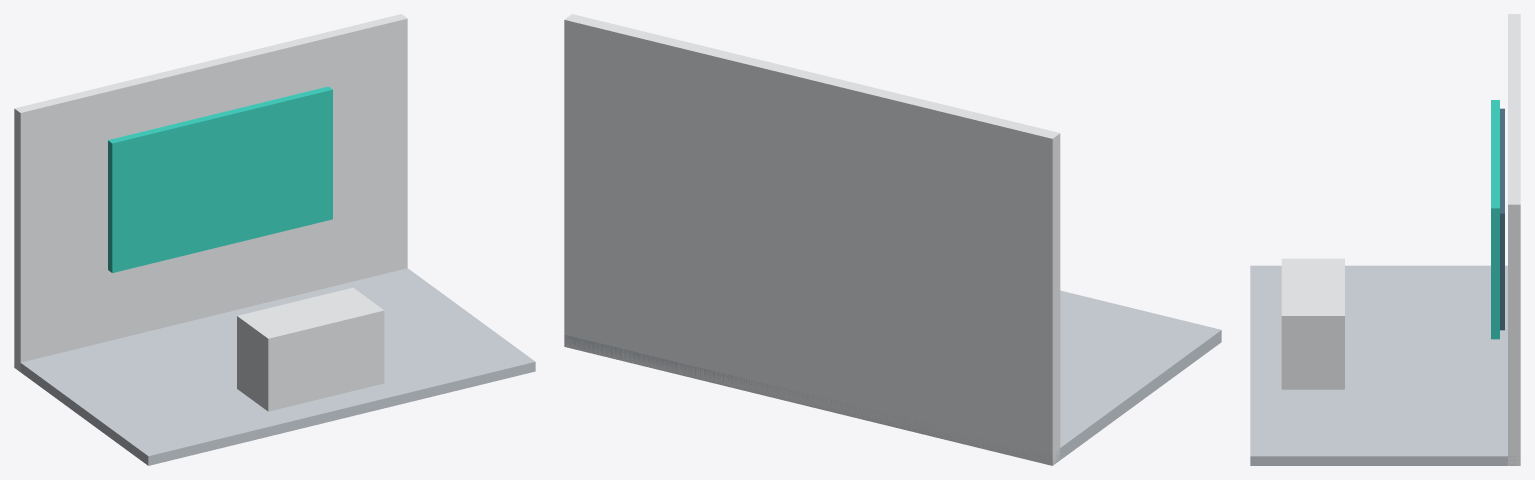
3 views of the same model, side by side, from view 1: azimuth 30°, elevation 25°; view 2: azimuth 150°, elevation 25°; view 3: azimuth 270°, elevation 25° (orthographic). The views are drawn at different scales.
Parts seen in each view (by area): view 1: Exhibition Booth Concept; view 2: Exhibition Booth Concept; view 3: Exhibition Booth Concept.
Part boxes in pixels (x1,y1,x2,y2): Exhibition Booth Concept: (14,14,535,465); Exhibition Booth Concept: (564,14,1221,465); Exhibition Booth Concept: (1250,14,1520,465).
Bounding box in the file's own units: 5 × 3.2 × 3.
